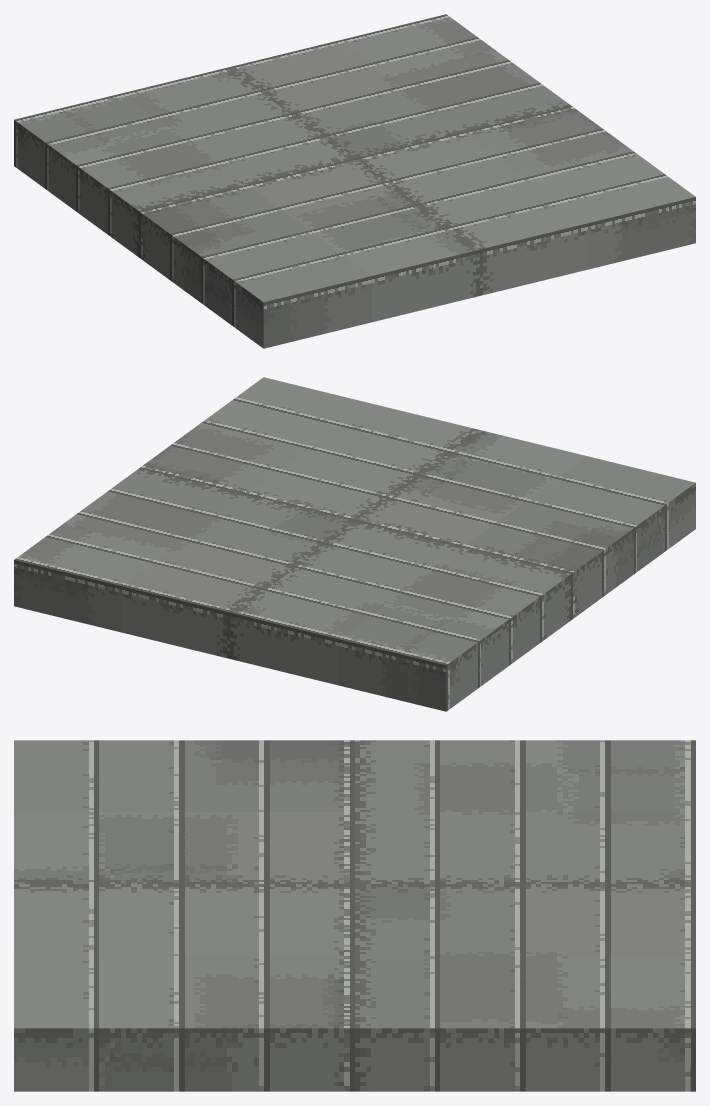
File: arch_ceiling_plain.glb
The picture shows the model from 3 angles, top to bottom: view 1: azimuth 30°, elevation 25°; view 2: azimuth 150°, elevation 25°; view 3: azimuth 270°, elevation 25°; orthographic projection. The views are drawn at different scales.
Visible parts, largest first — view 1: arch_ceiling_plain; view 2: arch_ceiling_plain; view 3: arch_ceiling_plain.
Part boxes in pixels (left/top/right/bottom): arch_ceiling_plain: left=14, top=14, right=695, bottom=348; arch_ceiling_plain: left=14, top=377, right=695, bottom=711; arch_ceiling_plain: left=14, top=740, right=695, bottom=1091.
Bounding box in the file's own units: 4 × 0.41 × 4.
Materials: 1 (1 with a texture image).
